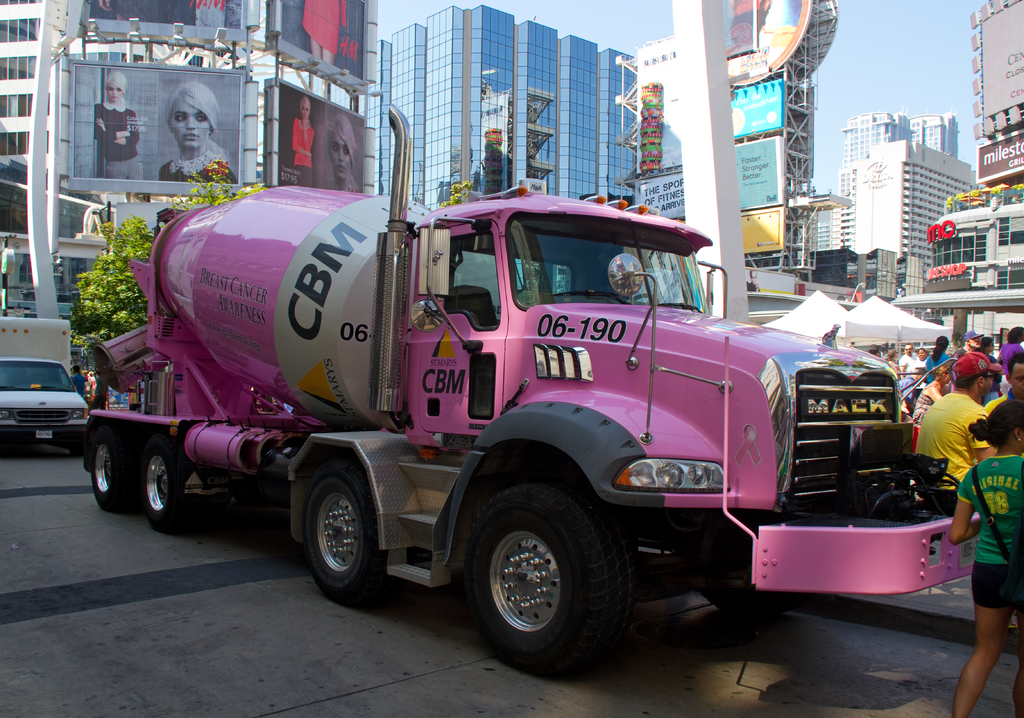Person: (861, 326, 1024, 718)
